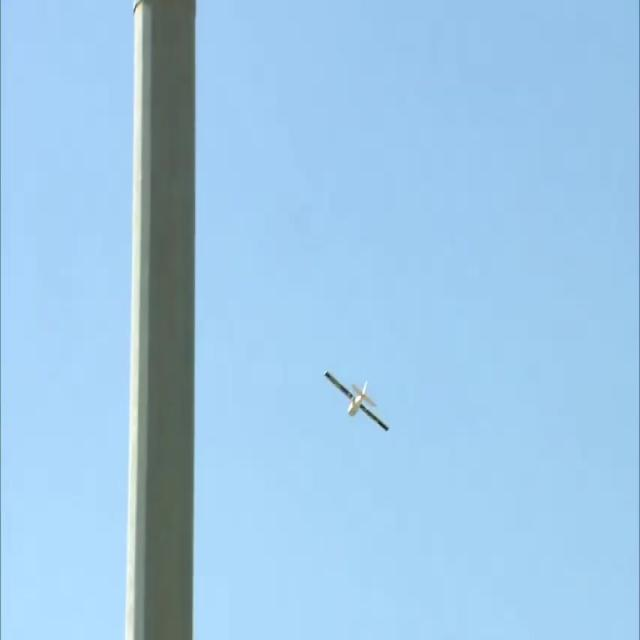iha: (355, 370, 358, 432)
